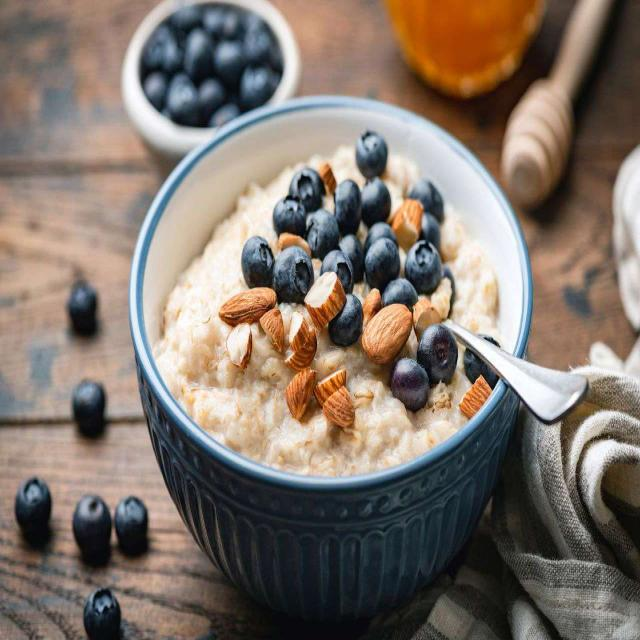avena: (148, 108, 535, 484)
